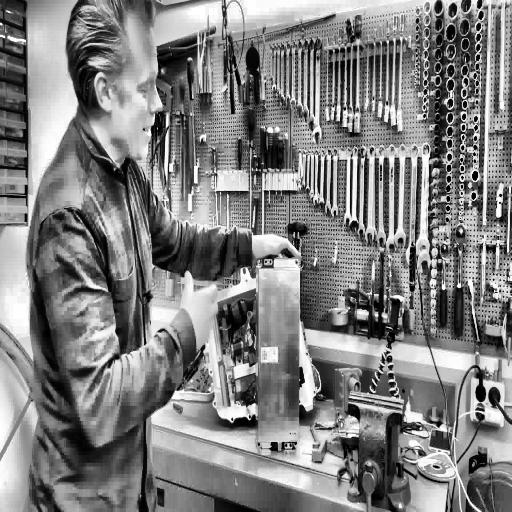battery_module: (260, 269, 300, 441)
